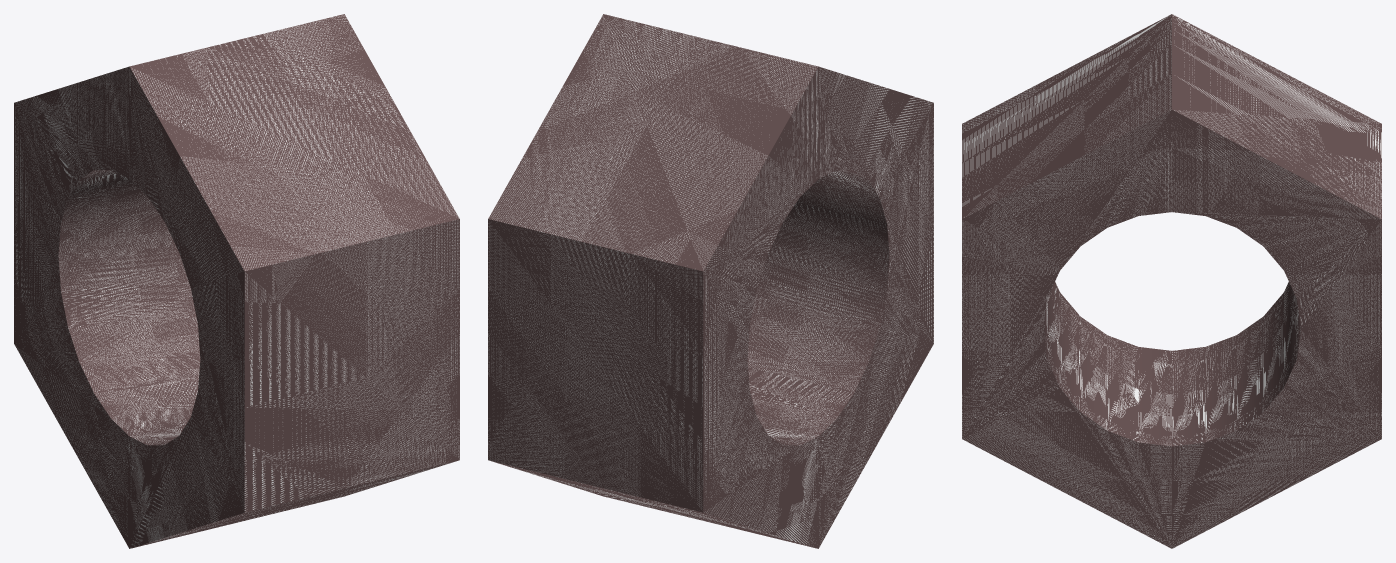
File: original-25.obj
3 views of the same model, side by side, from view 1: azimuth 30°, elevation 25°; view 2: azimuth 150°, elevation 25°; view 3: azimuth 270°, elevation 25° (orthographic). The views are drawn at different scales.
Parts seen in each view (by area): view 1: Nut_M8_6/Nut_M8_1_2/mesh7/mesh7-geometry#mesh7-geometry; view 2: Nut_M8_6/Nut_M8_1_2/mesh7/mesh7-geometry#mesh7-geometry; view 3: Nut_M8_6/Nut_M8_1_2/mesh7/mesh7-geometry#mesh7-geometry.
Part boxes in pixels (x1,y1,x2,y2): Nut_M8_6/Nut_M8_1_2/mesh7/mesh7-geometry#mesh7-geometry: (14,14,459,548); Nut_M8_6/Nut_M8_1_2/mesh7/mesh7-geometry#mesh7-geometry: (488,14,933,548); Nut_M8_6/Nut_M8_1_2/mesh7/mesh7-geometry#mesh7-geometry: (962,14,1381,548).
Size of the model in its own units: 0.0169 by 0.0361 by 0.0313.
